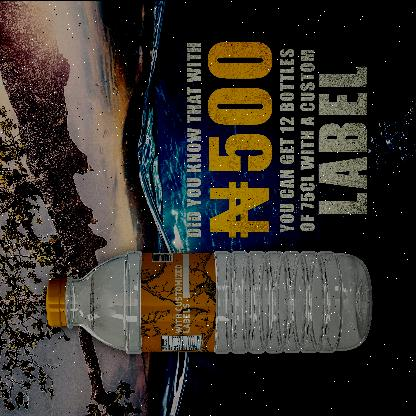Plastic Bottle: (46, 250, 373, 353)
